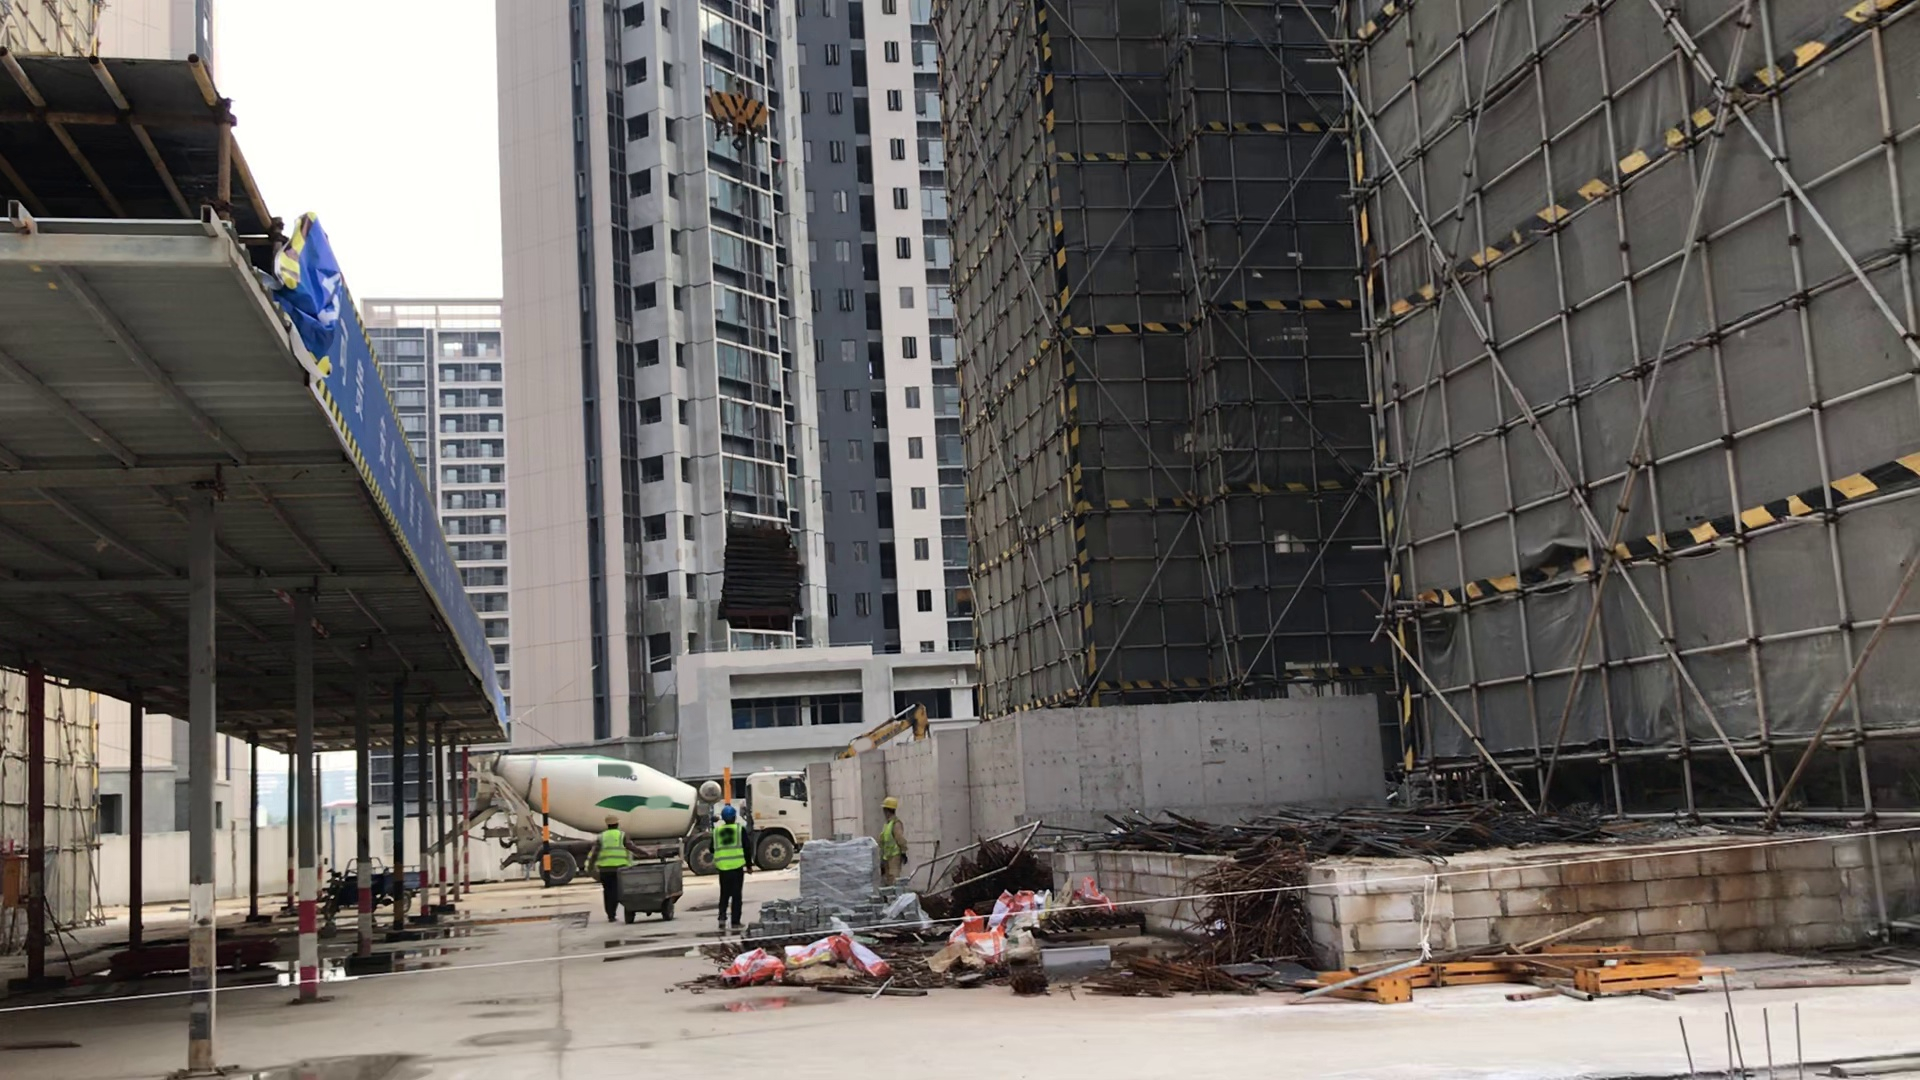helmet: (709, 793, 742, 819), (593, 802, 623, 830), (876, 794, 907, 816)
person: (710, 805, 755, 936), (592, 813, 634, 923), (876, 798, 915, 888)
vest: (709, 823, 746, 871), (595, 831, 631, 867), (876, 824, 910, 863)
